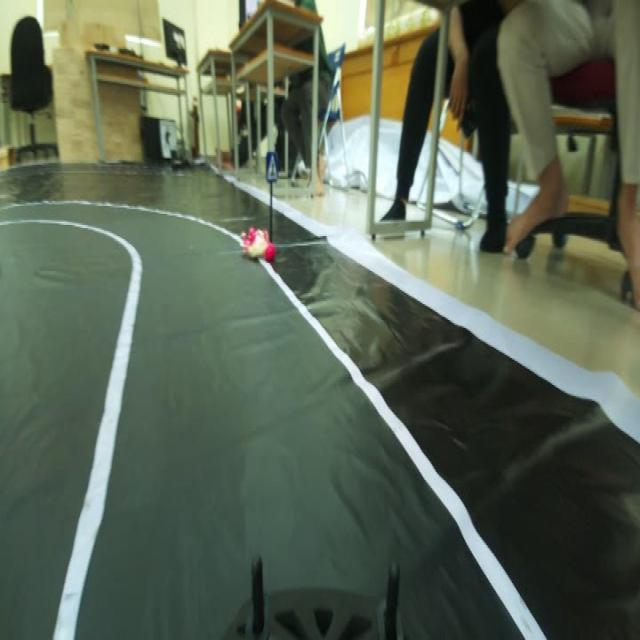crosswalk: (261, 147, 283, 187)
